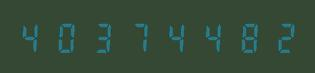eight: (227, 20, 261, 53)
four: (17, 20, 51, 53), (157, 20, 191, 53), (192, 20, 226, 53)
seven: (122, 20, 156, 53)
three: (87, 20, 121, 53)
two: (262, 20, 296, 53)
zero: (52, 20, 86, 53)
